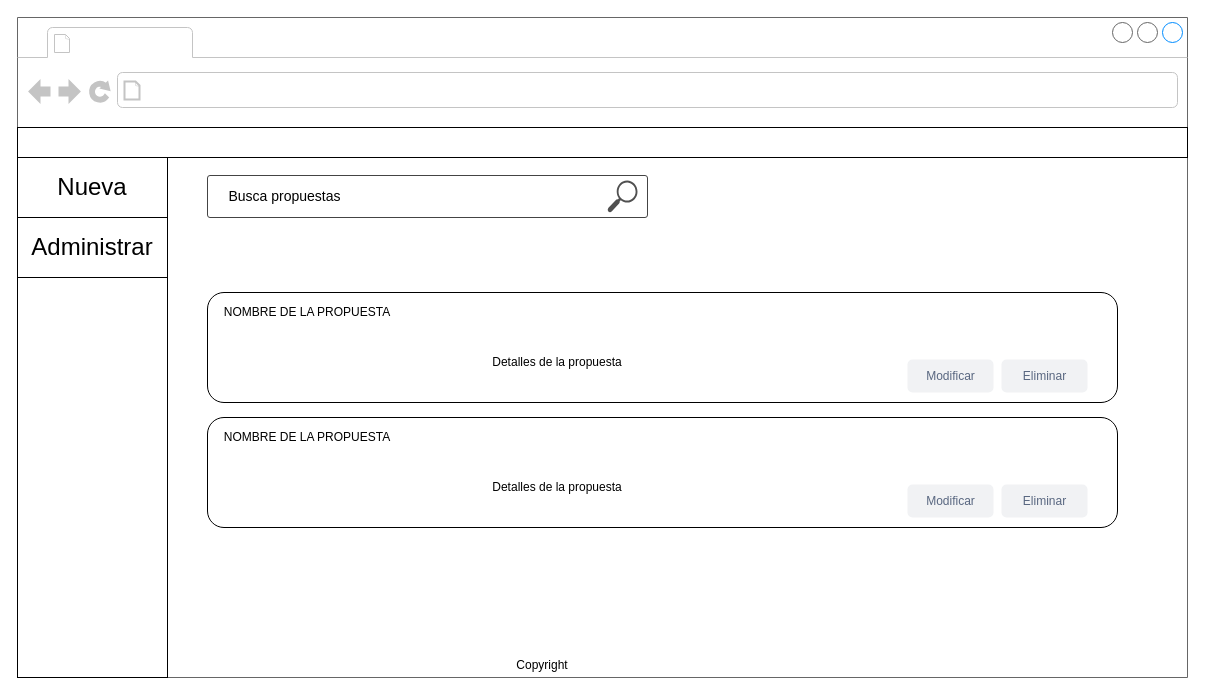
This 1205x695 diagram has some shape labels left out. The shapes that lost their labels are listed below. From the top down, each one's centre as x and y in pixels, then its label:
At (132,42): "Index".
At (272,90): "https://www.nuestraspropuestas.mx/admin".
At (602,142): "Administrador".
